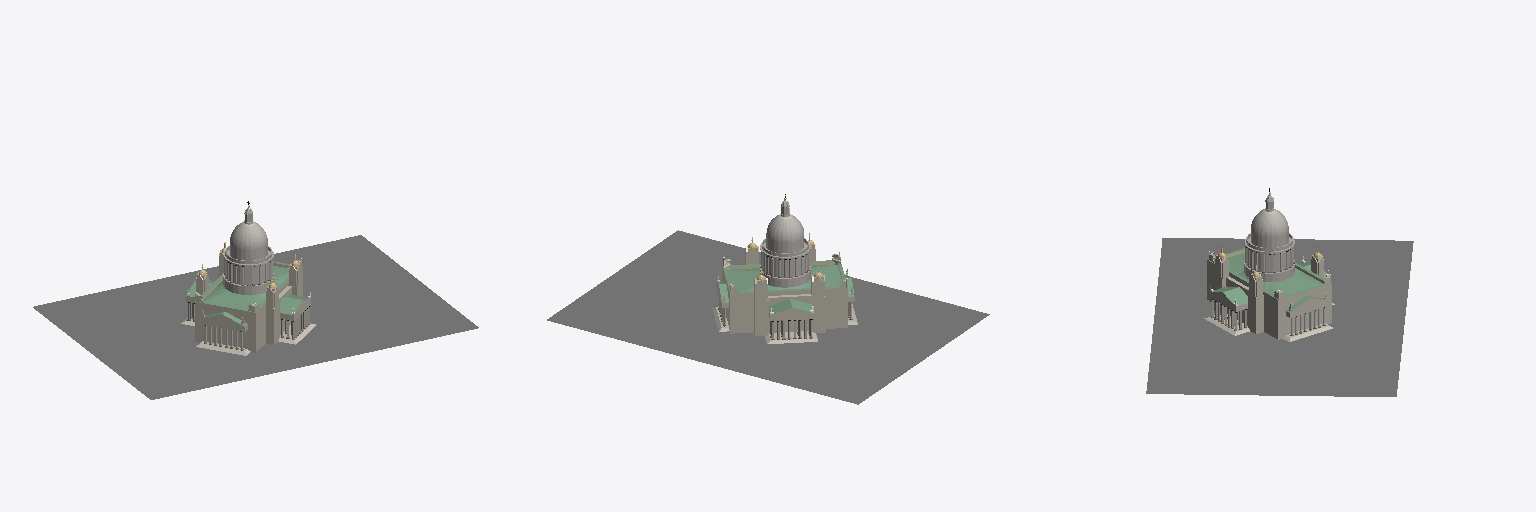
The model's file is isaacc.obj.
The picture shows the model from 3 angles: view 1: azimuth 30°, elevation 25°; view 2: azimuth 150°, elevation 25°; view 3: azimuth 270°, elevation 25°; orthographic projection.
Visible parts, largest first — view 1: Mesh1 Google_Earth_Snapshot Model, Mesh104 Group_1_2 Model, Mesh52 Group_1_1 Model, Mesh300 Group_5_5 Model, Mesh156 Group_1_3 Model, Mesh318 Group_5_6 Model; view 2: Mesh1 Google_Earth_Snapshot Model, Mesh208 Group_1_4 Model, Mesh52 Group_1_1 Model, Mesh264 Group_5_3 Model, Mesh156 Group_1_3 Model, Mesh282 Group_5_4 Model, Mesh104 Group_1_2 Model, Mesh318 Group_5_6 Model; view 3: Mesh1 Google_Earth_Snapshot Model, Mesh156 Group_1_3 Model, Mesh208 Group_1_4 Model, Mesh104 Group_1_2 Model, Mesh246 Group_5_2 Model, Mesh228 Group_5_1 Model, Mesh282 Group_5_4 Model.
Boxes of the visible parts, x1=… form: Mesh1 Google_Earth_Snapshot Model: x1=33, y1=235, x2=478, y2=399; Mesh104 Group_1_2 Model: x1=221, y1=285, x2=305, y2=355; Mesh52 Group_1_1 Model: x1=181, y1=271, x2=237, y2=350; Mesh300 Group_5_5 Model: x1=238, y1=214, x2=263, y2=294; Mesh156 Group_1_3 Model: x1=273, y1=258, x2=315, y2=334; Mesh318 Group_5_6 Model: x1=223, y1=213, x2=246, y2=293; Mesh1 Google_Earth_Snapshot Model: x1=547, y1=230, x2=989, y2=404; Mesh208 Group_1_4 Model: x1=716, y1=277, x2=792, y2=343; Mesh52 Group_1_1 Model: x1=788, y1=274, x2=857, y2=342; Mesh264 Group_5_3 Model: x1=775, y1=207, x2=800, y2=287; Mesh156 Group_1_3 Model: x1=712, y1=245, x2=760, y2=319; Mesh282 Group_5_4 Model: x1=760, y1=206, x2=783, y2=286; Mesh104 Group_1_2 Model: x1=810, y1=243, x2=854, y2=312; Mesh318 Group_5_6 Model: x1=788, y1=205, x2=810, y2=284; Mesh1 Google_Earth_Snapshot Model: x1=1146, y1=238, x2=1413, y2=396; Mesh156 Group_1_3 Model: x1=1220, y1=273, x2=1310, y2=341; Mesh208 Group_1_4 Model: x1=1286, y1=254, x2=1334, y2=334; Mesh104 Group_1_2 Model: x1=1204, y1=251, x2=1248, y2=326; Mesh246 Group_5_2 Model: x1=1259, y1=201, x2=1284, y2=281; Mesh228 Group_5_1 Model: x1=1244, y1=200, x2=1267, y2=277; Mesh282 Group_5_4 Model: x1=1272, y1=200, x2=1294, y2=279.
Size of the model in its own units: 289 by 104 by 205.